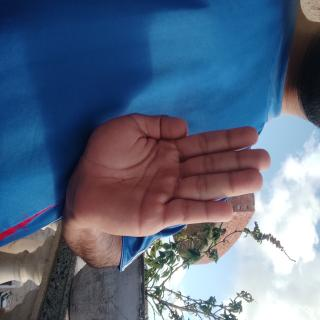SEEN: (77, 62, 184, 320)
